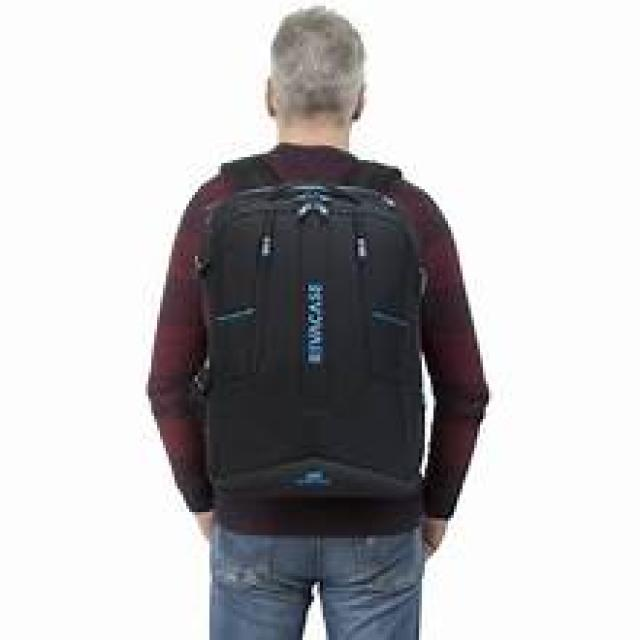backpack: (193, 170, 429, 504)
